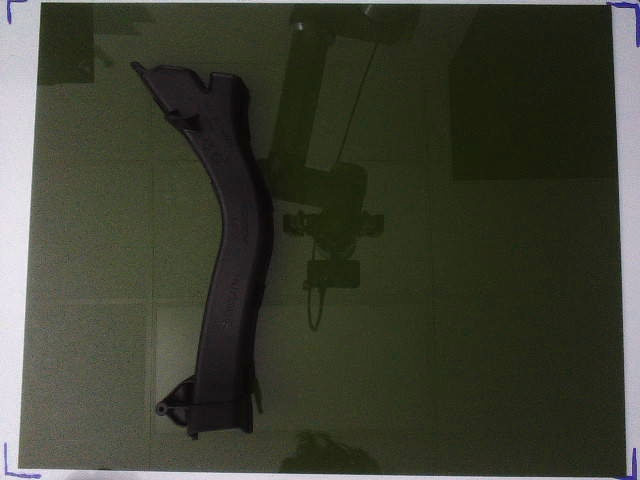887_A-Top: (128, 59, 268, 441)
